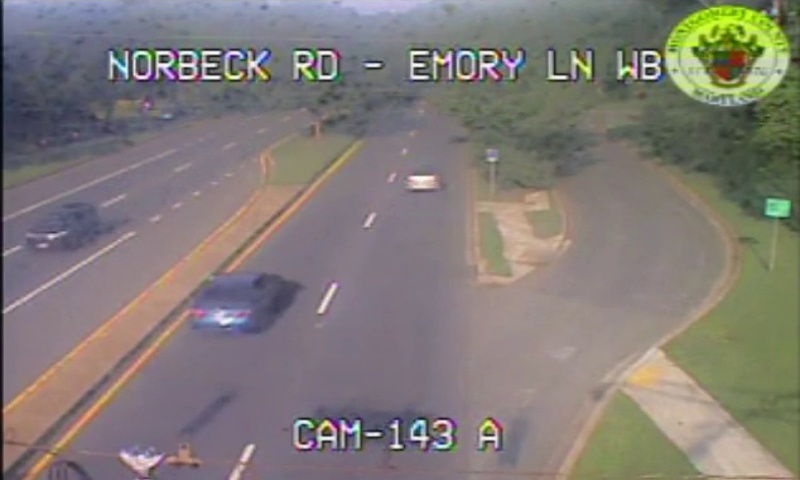car: (186, 275, 283, 328), (403, 169, 440, 189)
